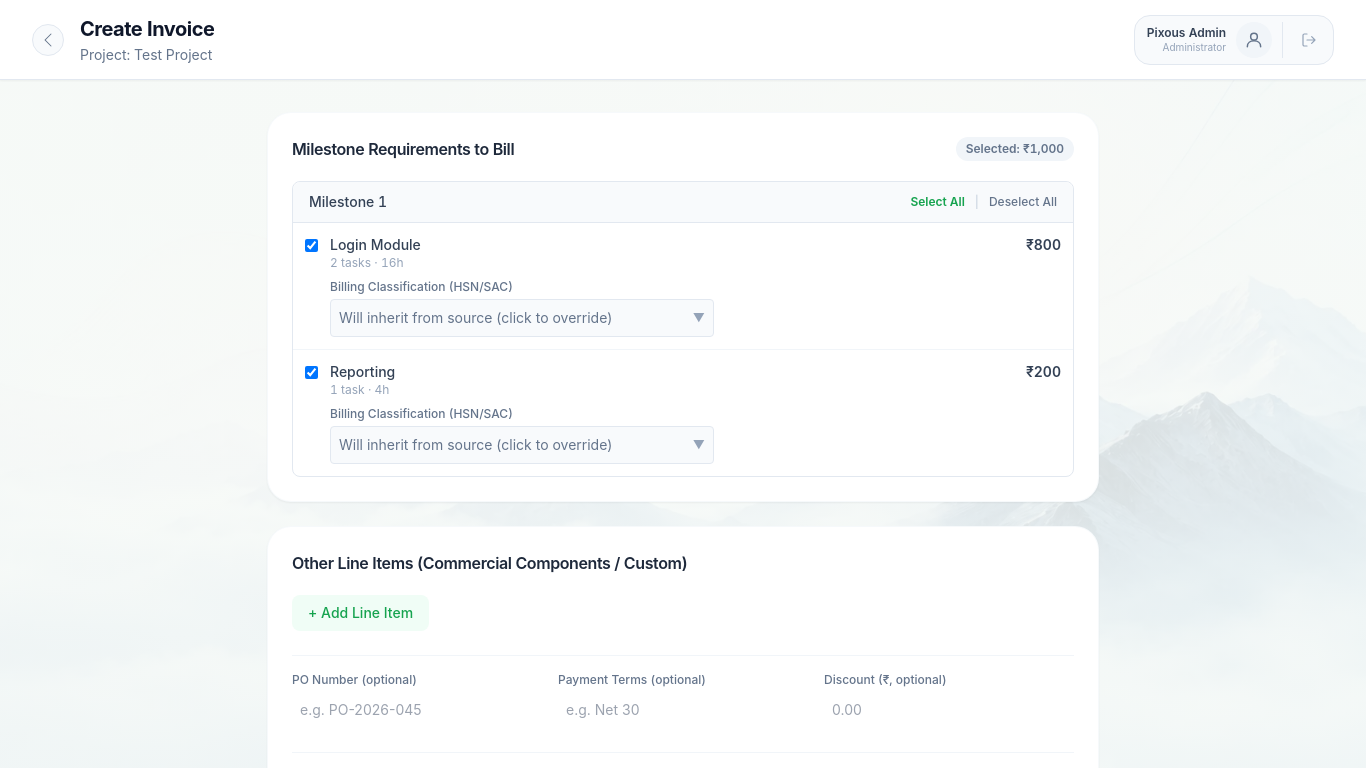
Test: NewInvoiceV2 › "Deselect All" on a milestone removes its requirements from the running total
Expected: the text "Login Module" is shown, [330,235,421,255]
Click the button "Deselect All". click: (1023, 202)
box: [989,194,1057,210]
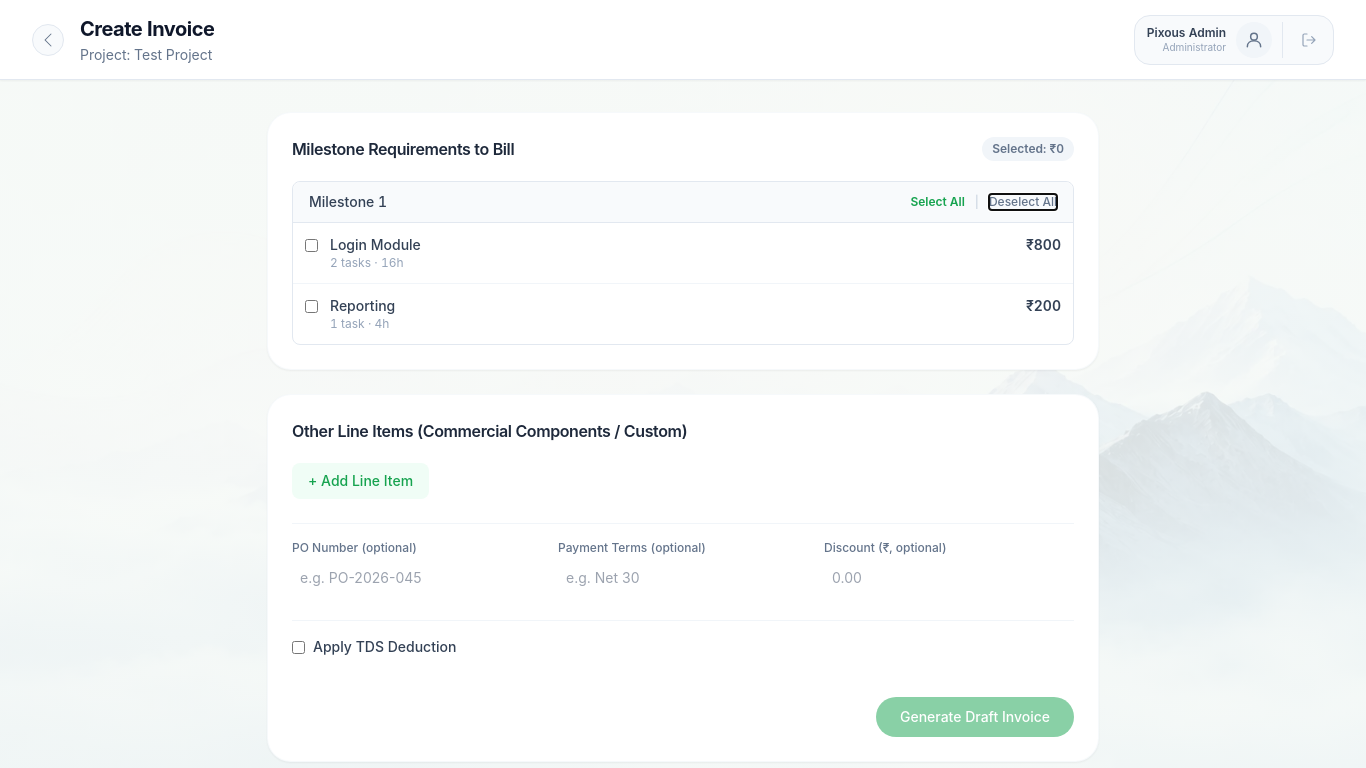
Expected: the text "Selected: ₹0" is shown, [982,137,1074,161]
